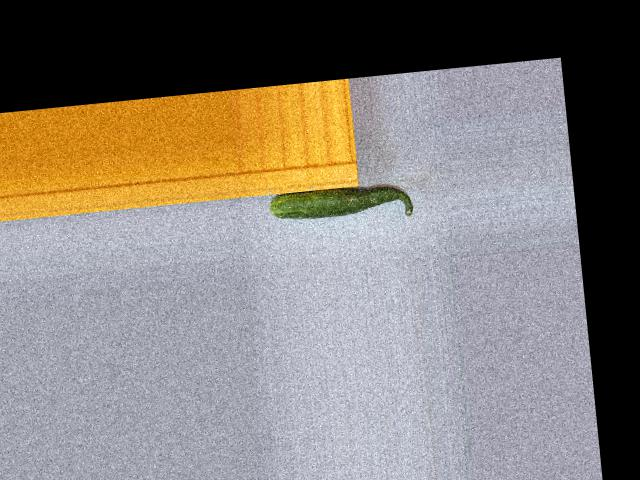cucumber: (269, 180, 414, 229)
